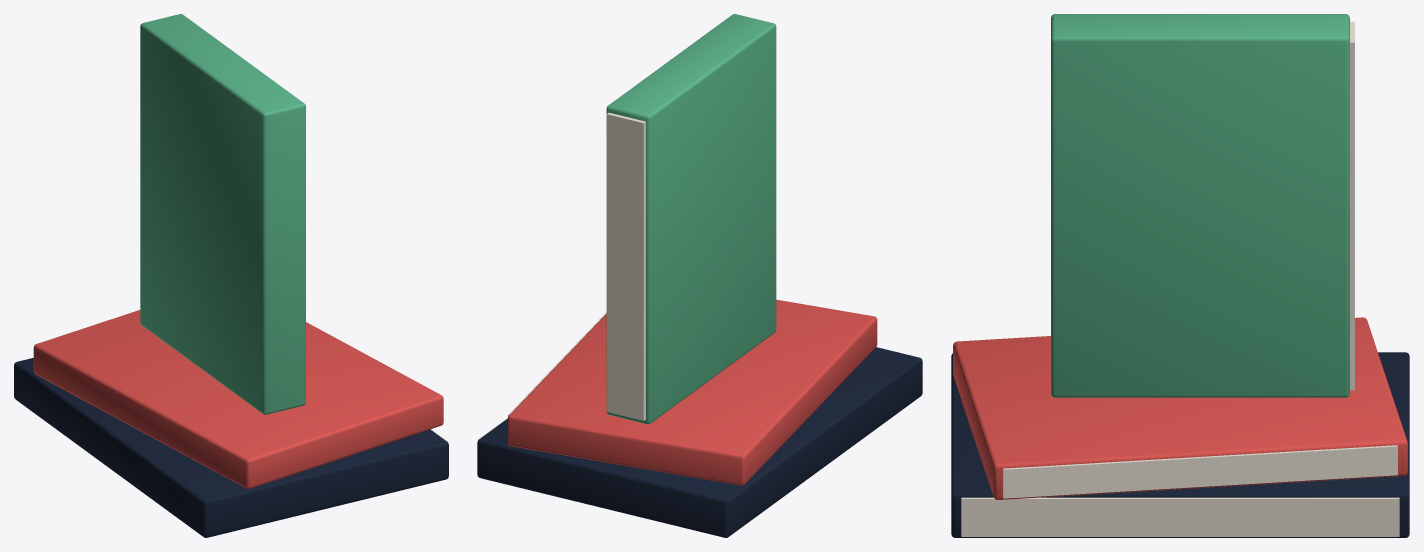
The model's file is book.glb.
The picture shows the model from 3 angles, left to right: view 1: azimuth 30°, elevation 25°; view 2: azimuth 150°, elevation 25°; view 3: azimuth 270°, elevation 25°; orthographic projection. The views are drawn at different scales.
Visible parts, largest first — view 1: cover3, cover2, cover1; view 2: cover3, cover2, cover1, pages3; view 3: cover3, cover2, pages1, pages2, cover1, pages3.
Boxes of the visible parts, box(x1,y1,x2,y2) form: cover3: box(140, 14, 305, 414); cover2: box(33, 310, 443, 488); cover1: box(14, 358, 448, 537); cover3: box(606, 14, 776, 424); cover2: box(508, 299, 877, 485); cover1: box(477, 347, 922, 537); pages3: box(607, 112, 645, 420); cover3: box(1051, 14, 1349, 397); cover2: box(953, 317, 1407, 499); pages1: box(961, 497, 1399, 536); pages2: box(1003, 445, 1397, 498); cover1: box(951, 352, 1409, 537); pages3: box(1350, 21, 1354, 390).
Bounding box in the file's own units: 0.3594 × 0.49 × 0.46.
